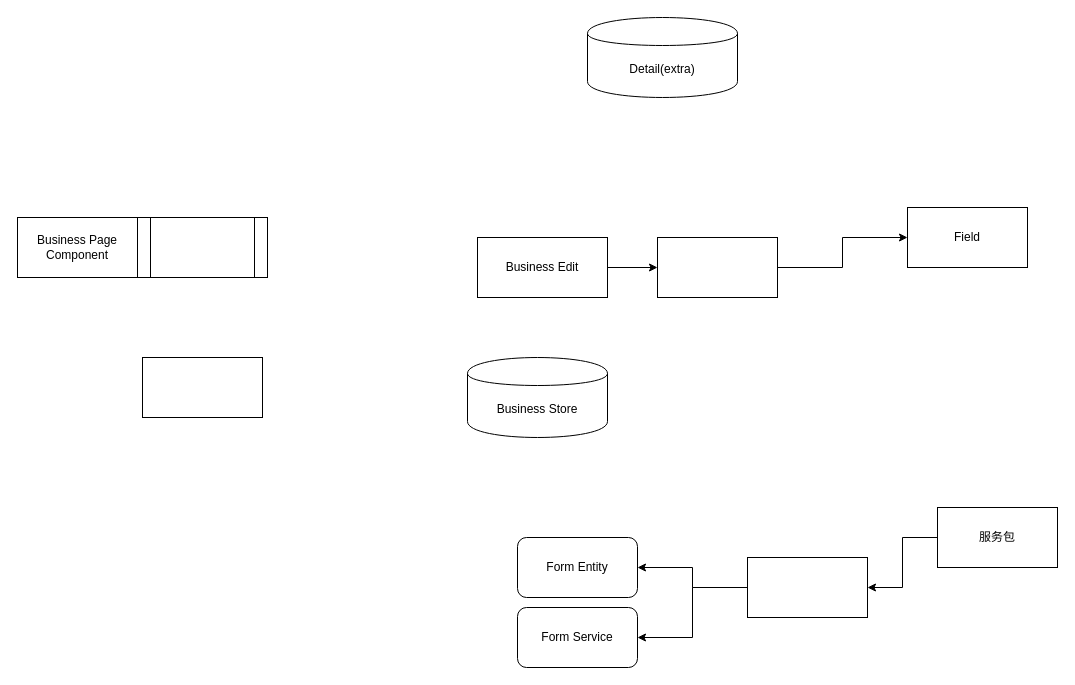
Some shapes in this 1075 by 685 pixel diagram are drawn without their labels. The centre of each missing label's shape, as x and y in pixels:
"Business Service" belongs at [202,247].
"Form" belongs at [717,267].
"Form服务包" belongs at [807,587].
